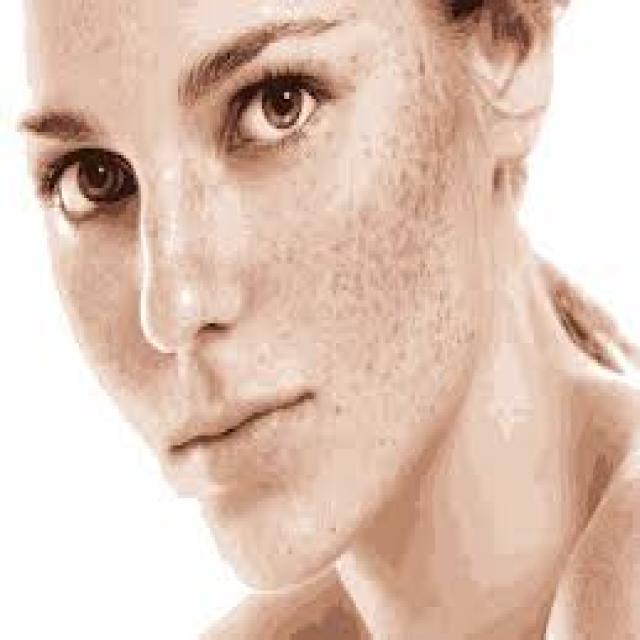pigmentation: (371, 97, 464, 322)
